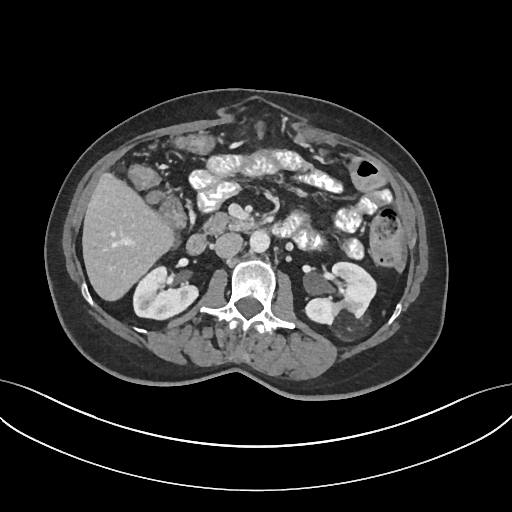Lesion: (330, 307, 376, 343)
